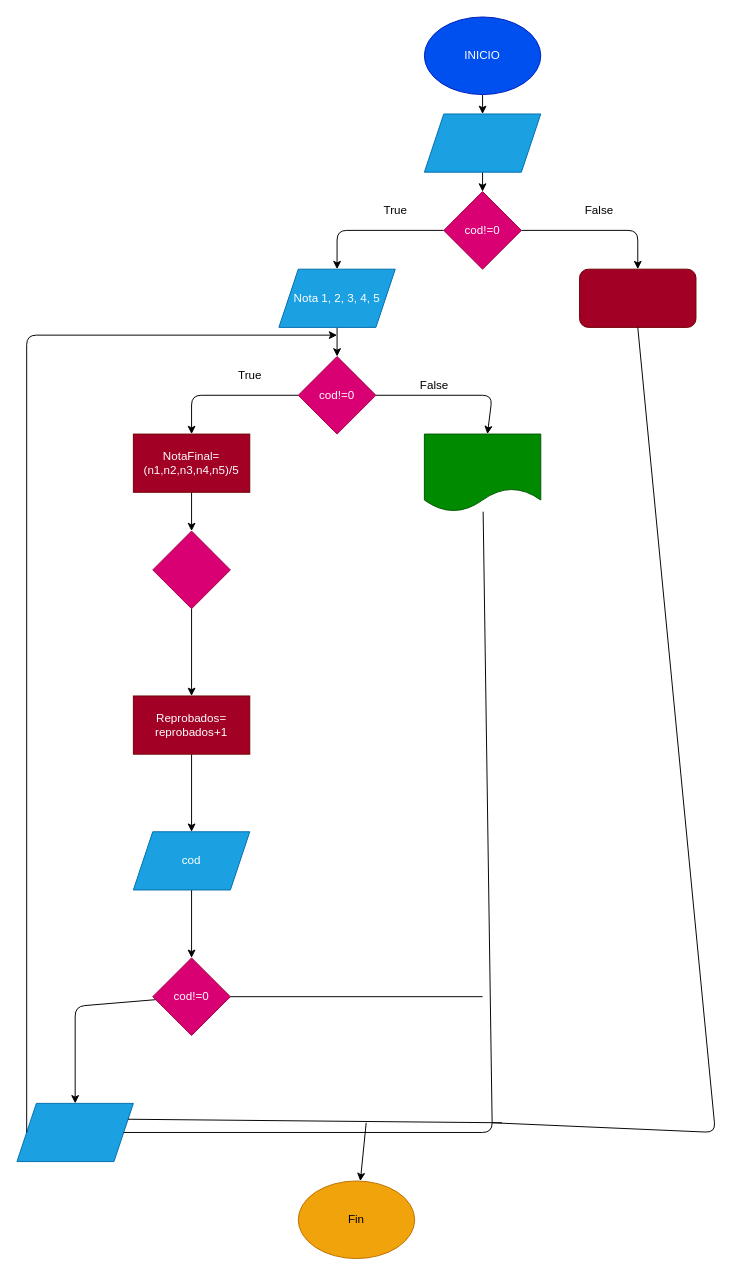
This 733x1276 diagram has some shape labels left out. The box of each missing label's shape, as (x1, y1, x2, y2) in pixels:
cod reprobados=0: (423, 113, 541, 172)
Fin de la entrada: (579, 268, 696, 327)
N1,n2,n3,n4,n5: (16, 1102, 133, 1162)
NotaFinal<3: (152, 530, 230, 609)
Reprobados: (423, 433, 541, 512)
